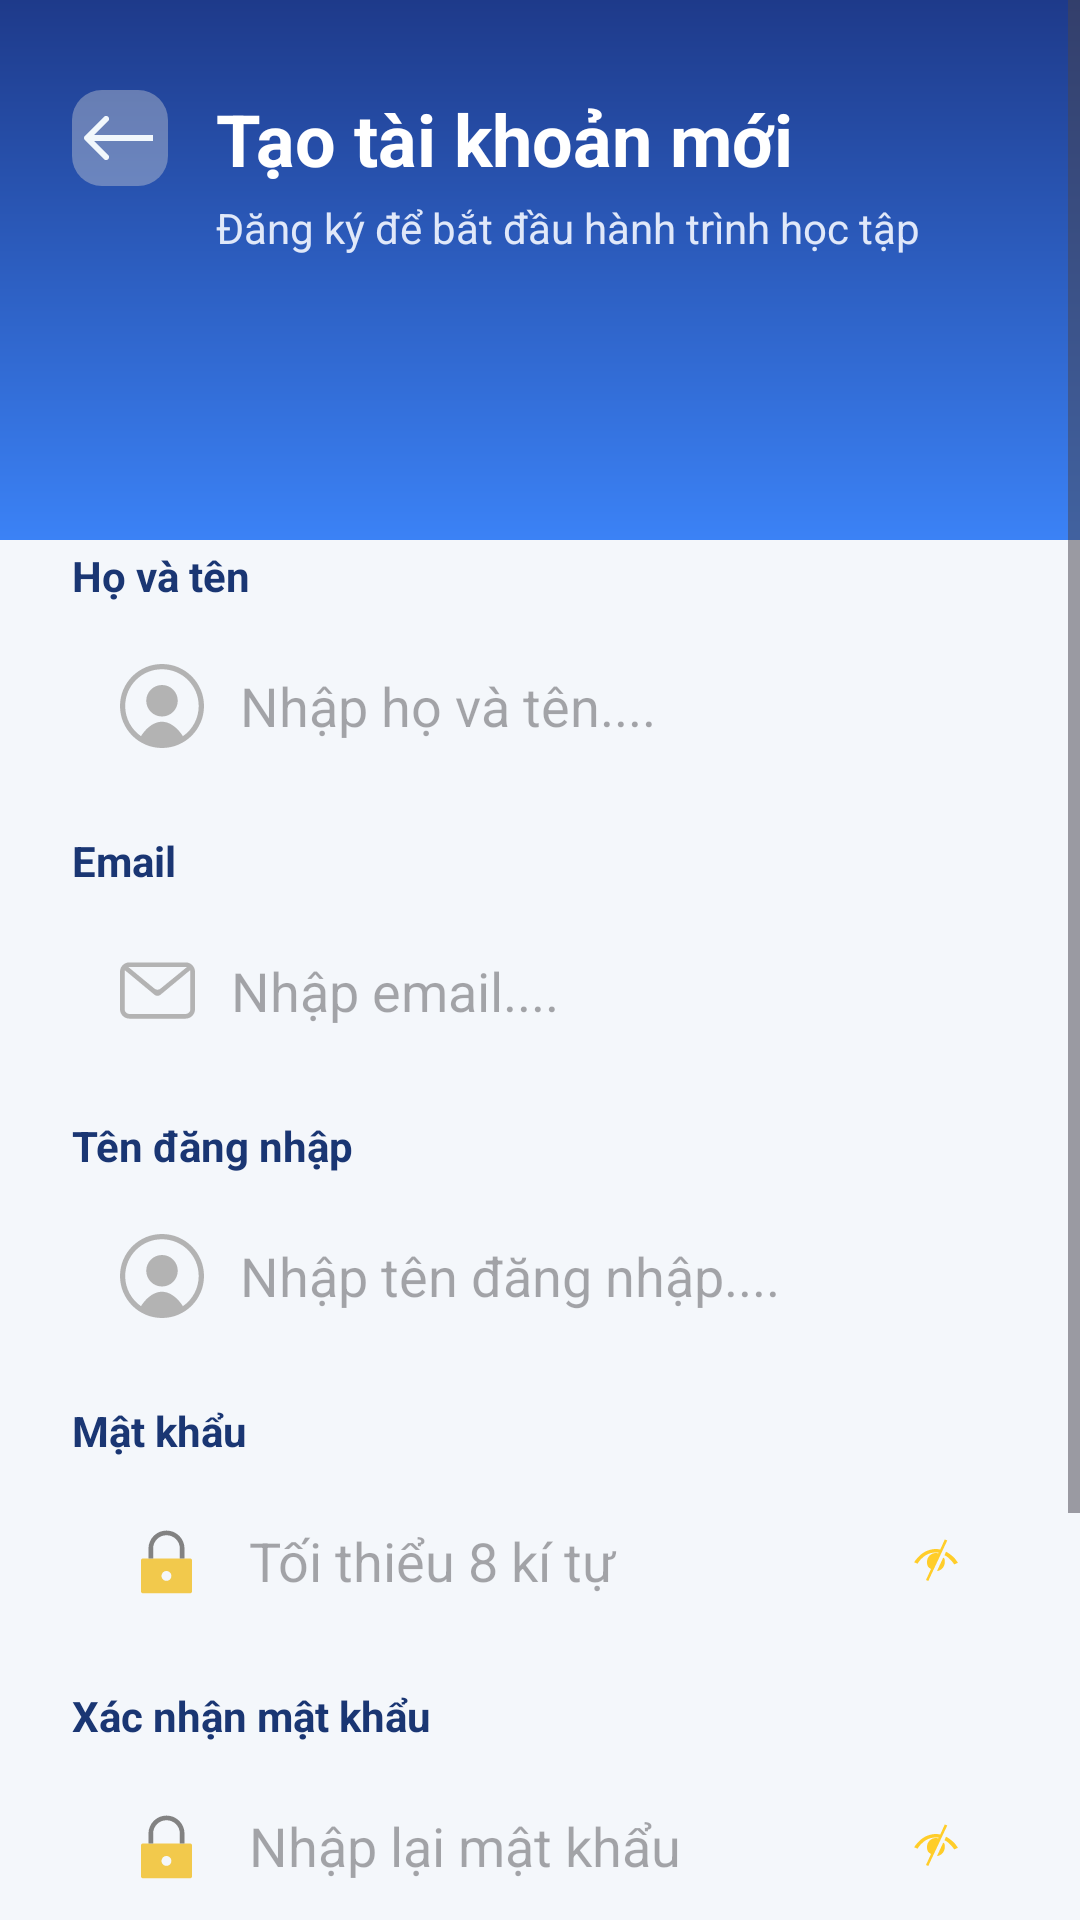

Icon bounding boxes for this 1080*1920 phone screenshot, format box(x1, y1, x2, y2):
back: box(72, 90, 168, 186)
